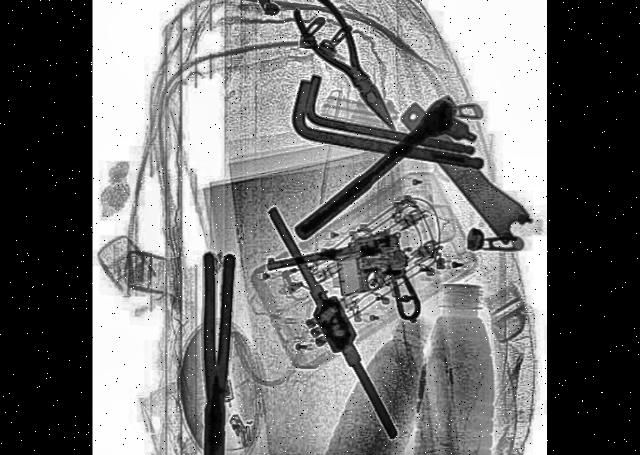Gun: (267, 227, 424, 352)
Pliers: (291, 0, 410, 149), (201, 251, 236, 455)
